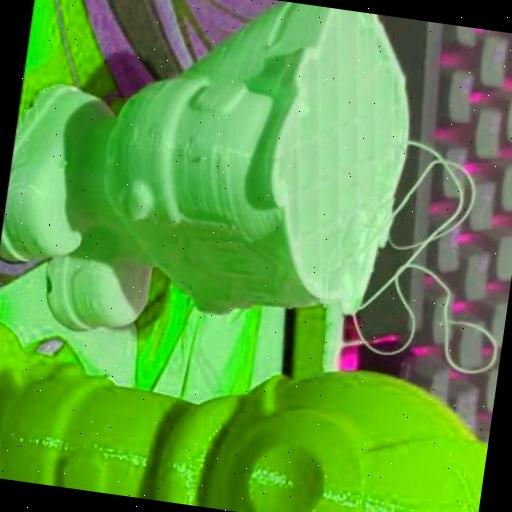spaghetti: (341, 131, 512, 377)
